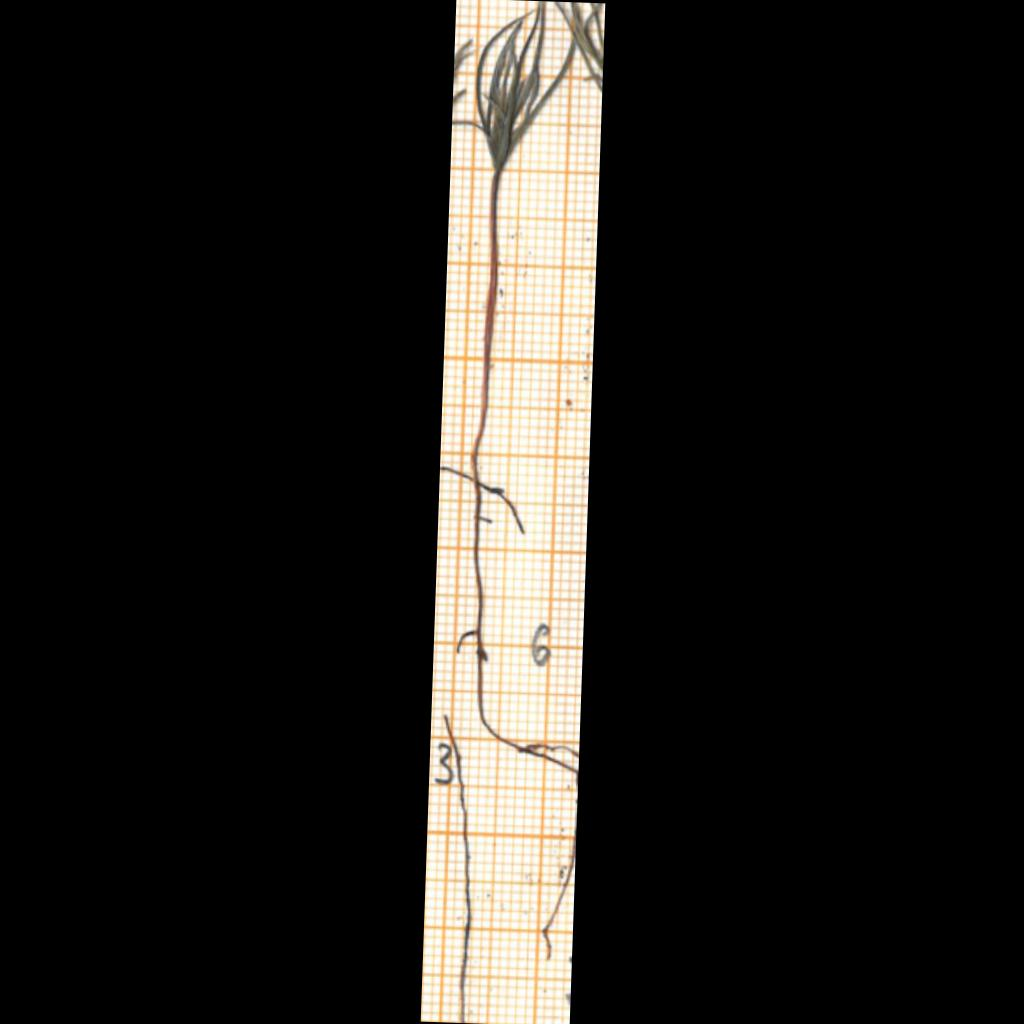flowerPinus: (477, 1, 573, 174)
rootPinus: (458, 515, 578, 776)
stemPinus: (471, 173, 498, 516)
